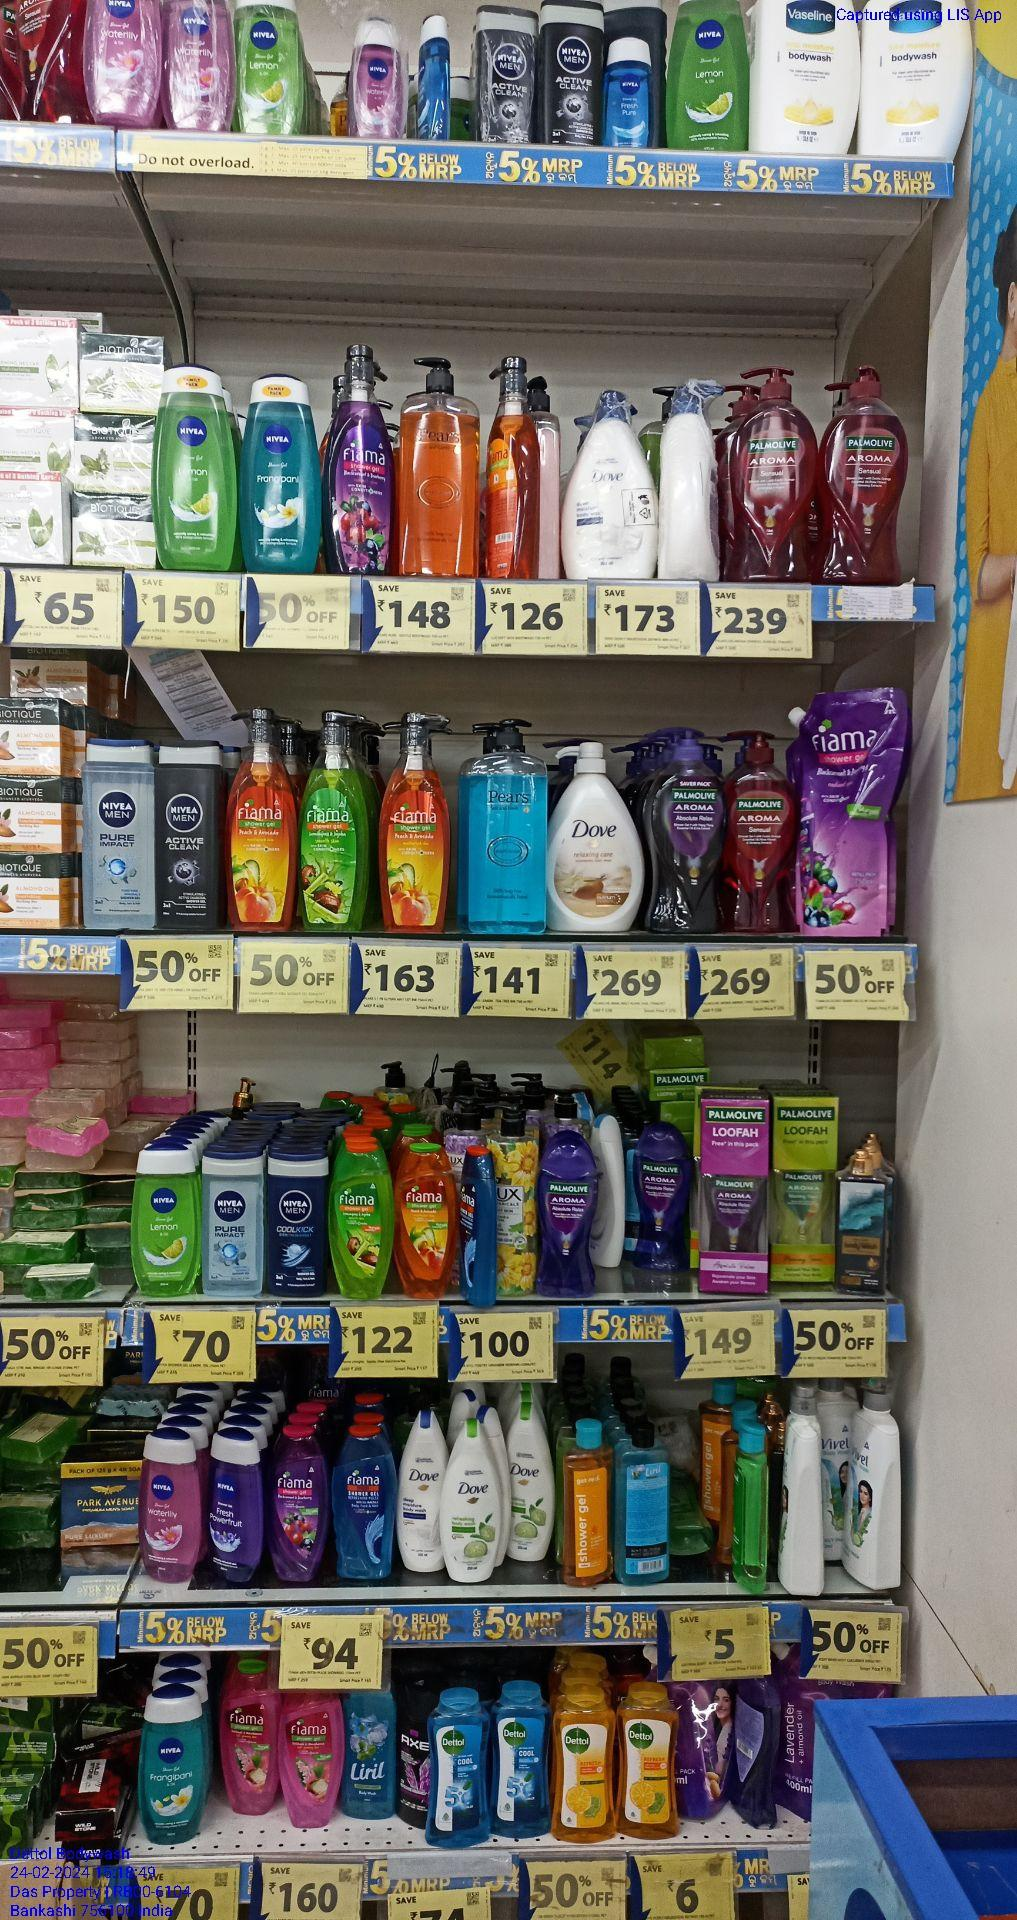Dettol_Bodywash_Cool: (430, 1680, 486, 1845), (494, 1681, 548, 1837)
Dettol_Bodywash_Refresh: (617, 1680, 678, 1840), (554, 1686, 611, 1841)
Dove_Deep_Moisture_Body_Wash_250ML: (397, 1407, 442, 1572)
Dove_Refreshing_Body_Wash_250ML: (447, 1417, 502, 1582), (509, 1406, 555, 1559)
Fiama_Shower_Gel_Lemongrass_and_Jojoba_250ML: (329, 1135, 392, 1307)
Fiama_Shower_Gel_Patchouli_and_Macadamia_250ML: (278, 1697, 342, 1830), (223, 1657, 276, 1817)
Fiama_Shower_Gel_Peach_and_Avocado_250ML: (396, 1144, 456, 1295)
Liril_Cooling_Mint_Body_Wash_250ML: (343, 1689, 395, 1818)
Nivea_Shower_Gel_Frangipani_and_Oil_250ML: (243, 361, 320, 569), (142, 1698, 207, 1840)
Nivea_Shower_Gel_Fresh_Powerfruit_250ML: (207, 1426, 262, 1582)
Nivea_Shower_Gel_Lemon_and_Oil_250ML: (156, 367, 237, 573), (665, 0, 749, 154), (133, 1147, 202, 1295), (241, 0, 298, 137)
Nivea_Shower_Gel_Waterlily_and_Oil_250ML: (86, 0, 163, 121), (143, 1426, 202, 1582), (166, 0, 237, 128), (353, 22, 405, 138)
Palmolive_Aroma_Relax_250ML: (541, 1138, 595, 1295), (635, 1128, 689, 1272)
